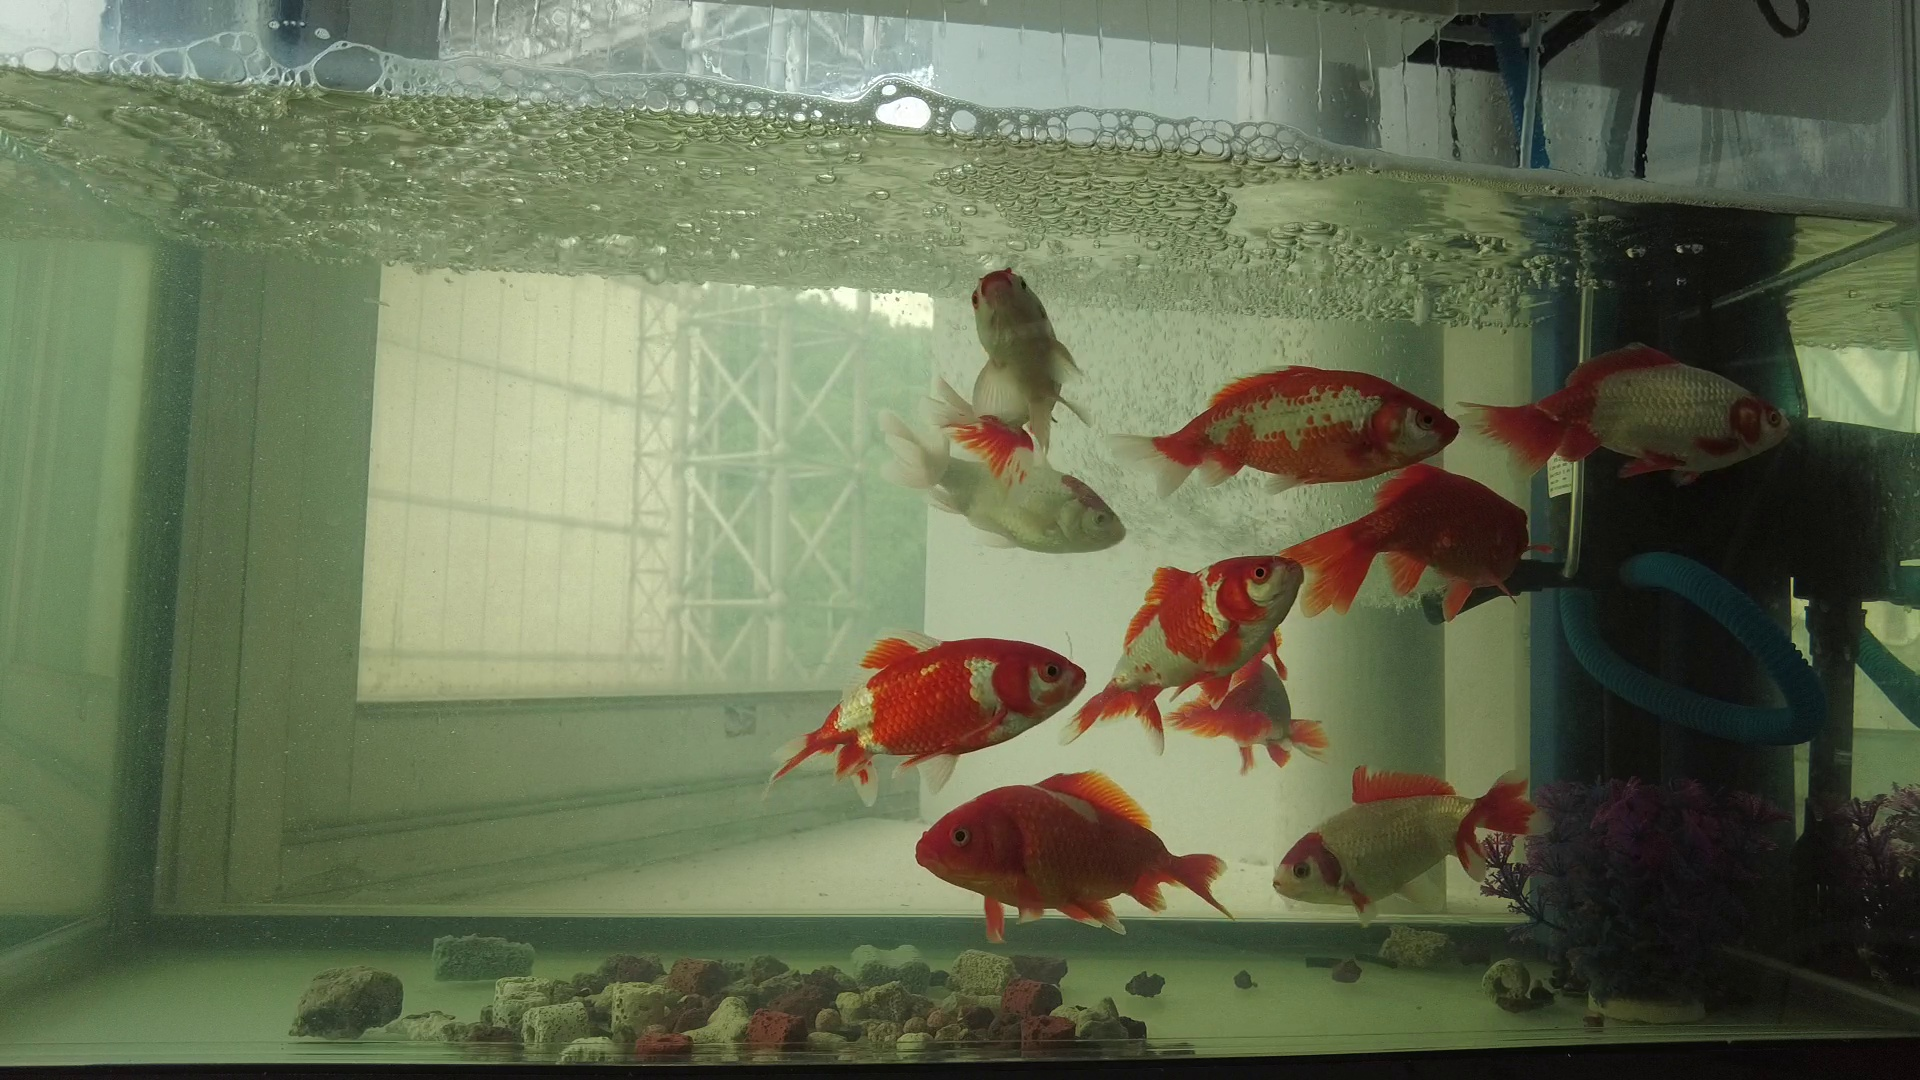fish: (752, 618, 1098, 814), (905, 761, 1245, 951), (1091, 352, 1466, 512), (1445, 331, 1803, 496), (1048, 549, 1316, 764), (1267, 757, 1564, 938), (1273, 452, 1542, 632), (862, 396, 1133, 566), (919, 258, 1092, 459), (1153, 647, 1342, 775)
